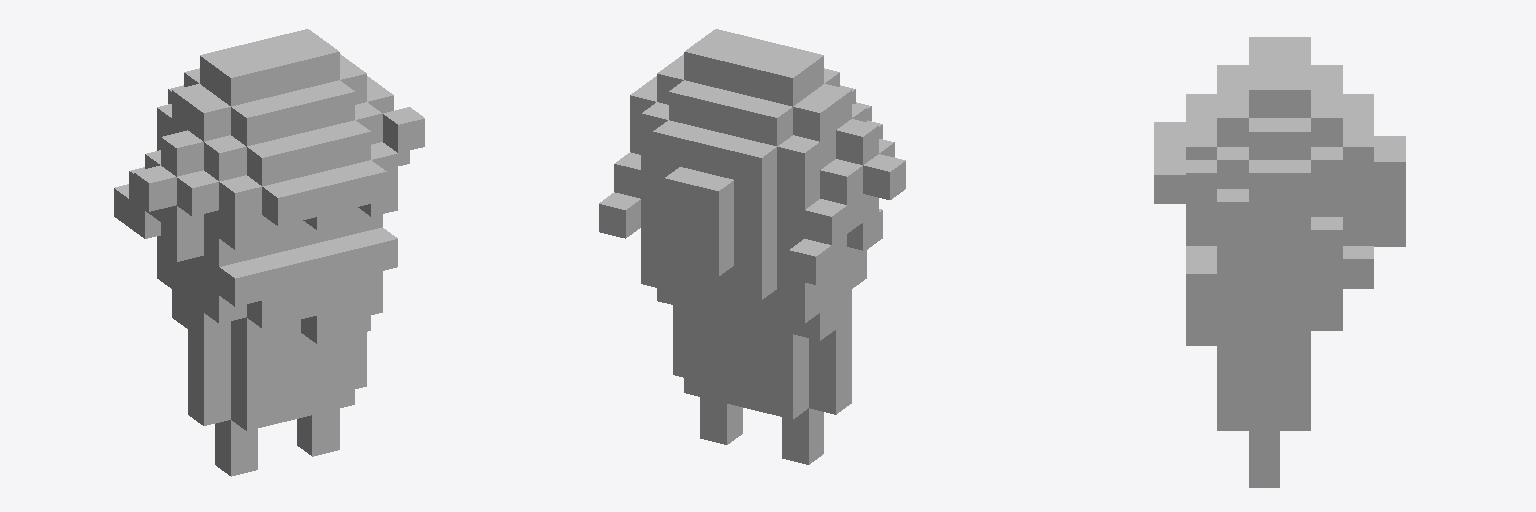
File: chr_sword.obj
3 renders of one model, left to right at view 1: azimuth 30°, elevation 25°; view 2: azimuth 150°, elevation 25°; view 3: azimuth 270°, elevation 25°, orthographic.
Parts seen in each view (by area): view 1: object 1; view 2: object 1; view 3: object 1.
Part boxes in pixels (x1,y1,x2,y2): object 1: (114, 29, 424, 476); object 1: (599, 29, 905, 464); object 1: (1154, 37, 1405, 487).
Bounding box in the file's own units: 0.9 × 1.4 × 0.8.